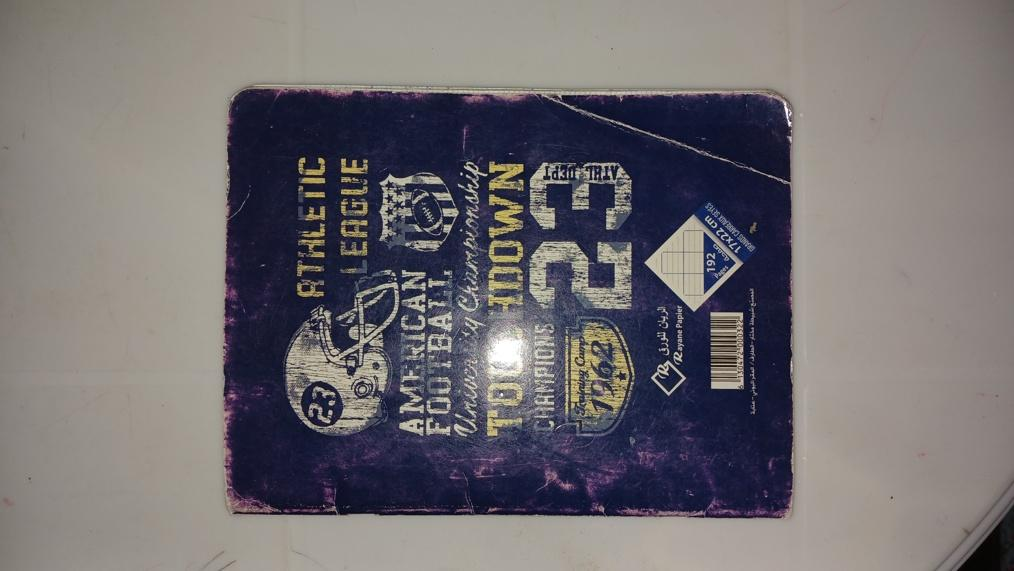notebook: (227, 89, 792, 518)
